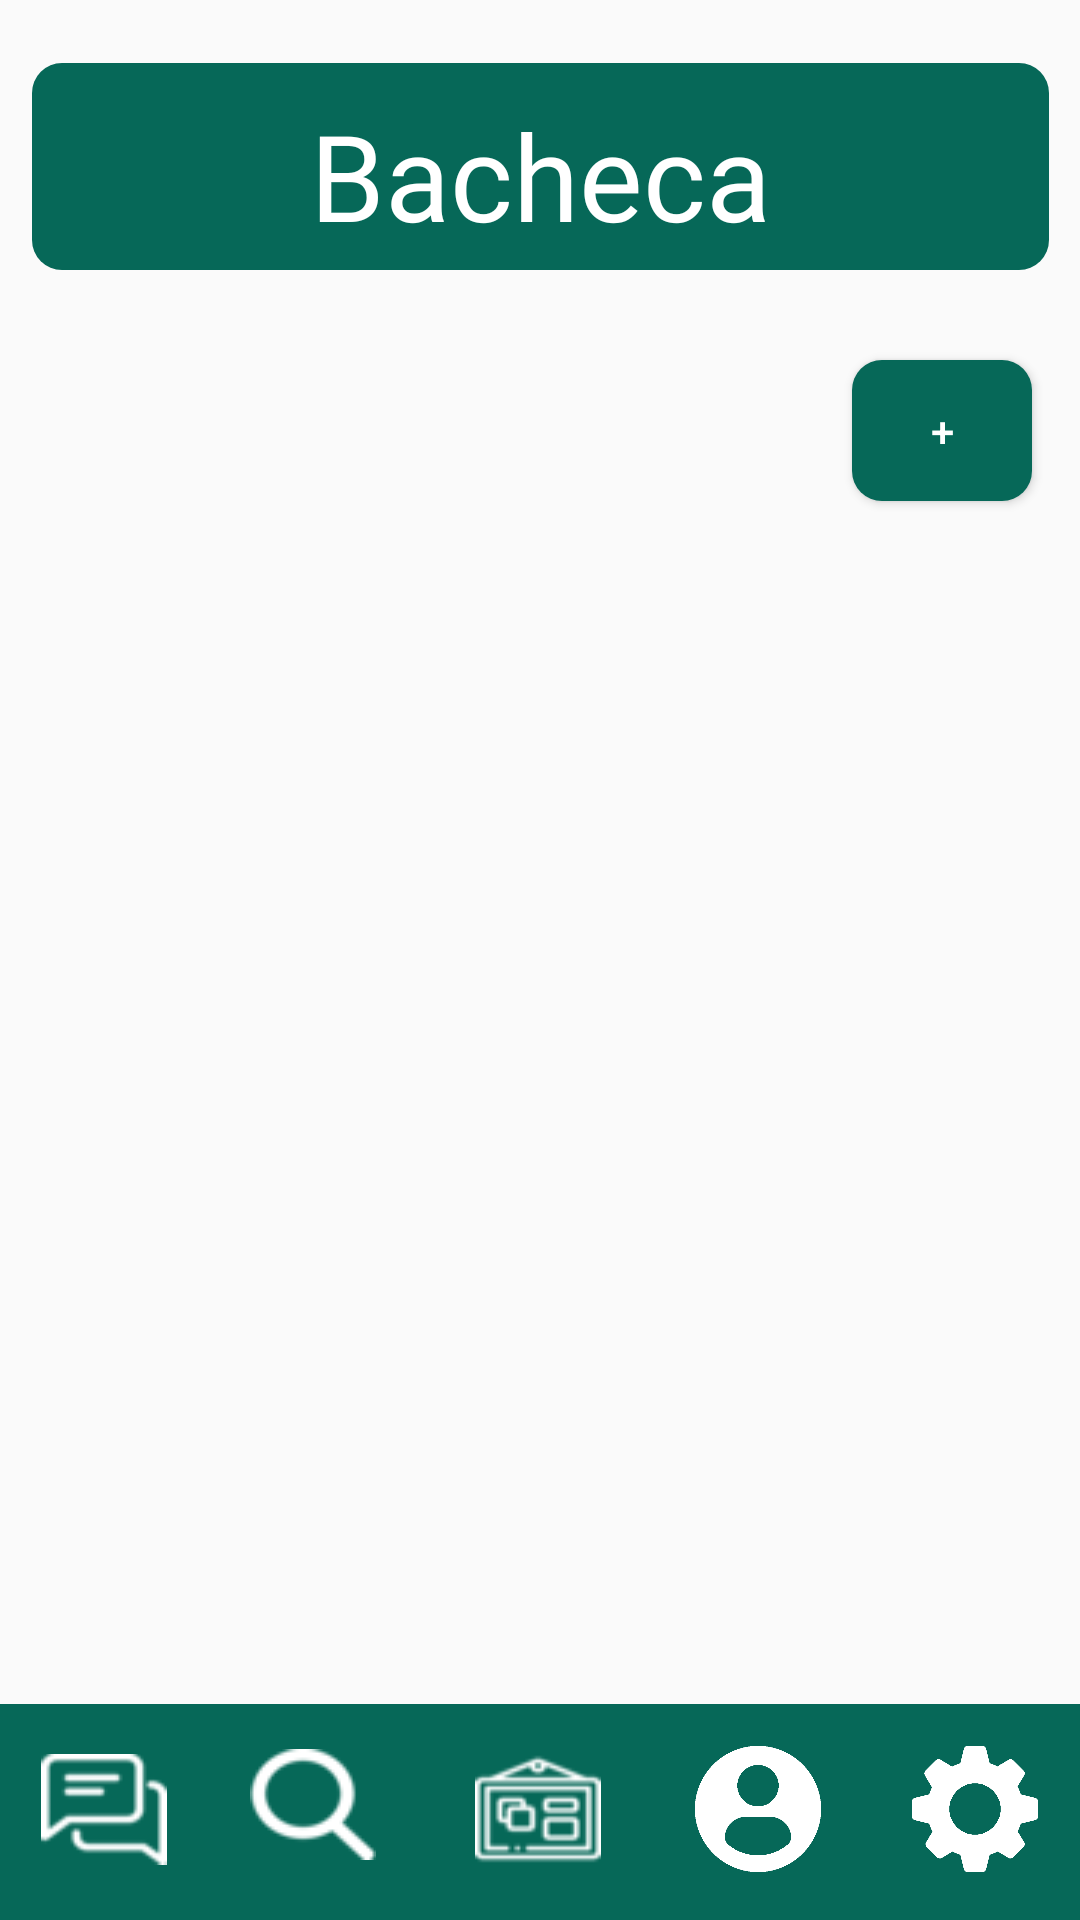

Named icons in this screenshot (1080 × 1920) and their centers, (x,y):
bacheca: (538,1809)
chat: (104,1809)
gearwhite: (975,1809)
profile: (758,1809)
search: (313,1804)
